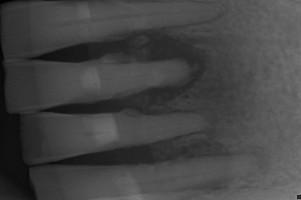Dental Caries: (115, 29, 208, 113), (165, 140, 273, 174)
Furcation Involvement: (192, 108, 220, 137)
